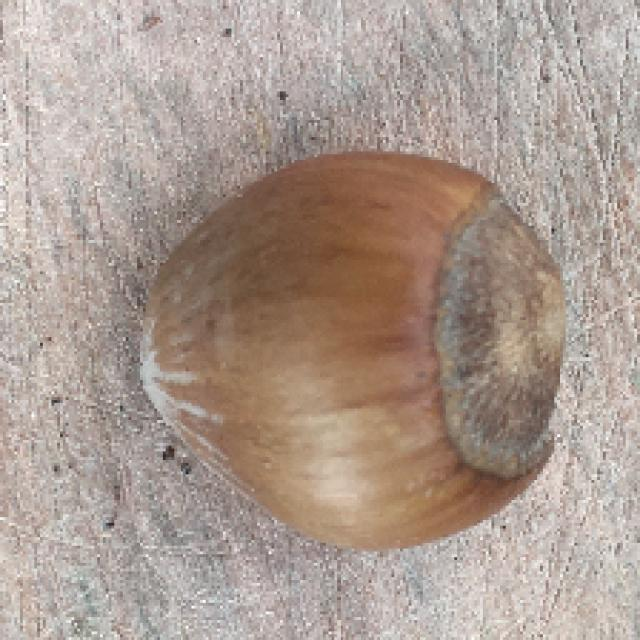damagedHazelnut: (135, 152, 560, 547)
